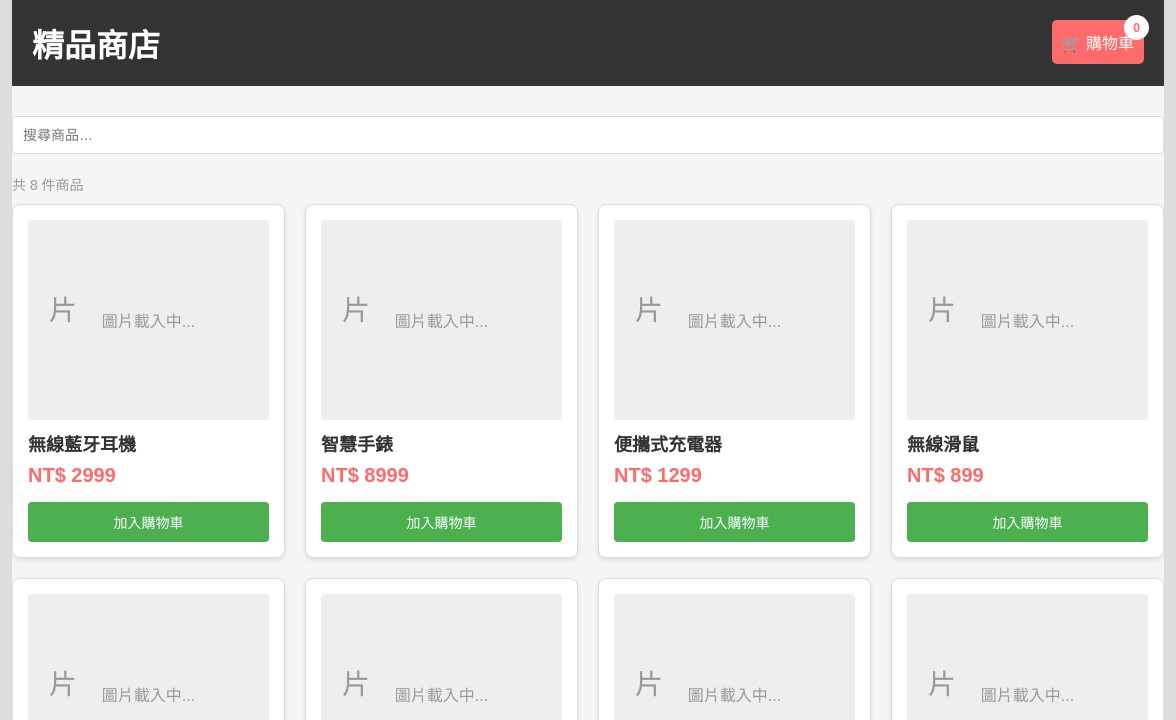
Test: Ticket 04: show total cart quantity › 2 × earphones + 1 × mouse shows 3 units in the badge and the accessible label
The image size is (1176, 720).
Click the button "加入購物車" below "NT$ 2999" at (148, 522), box [28,502,269,542]
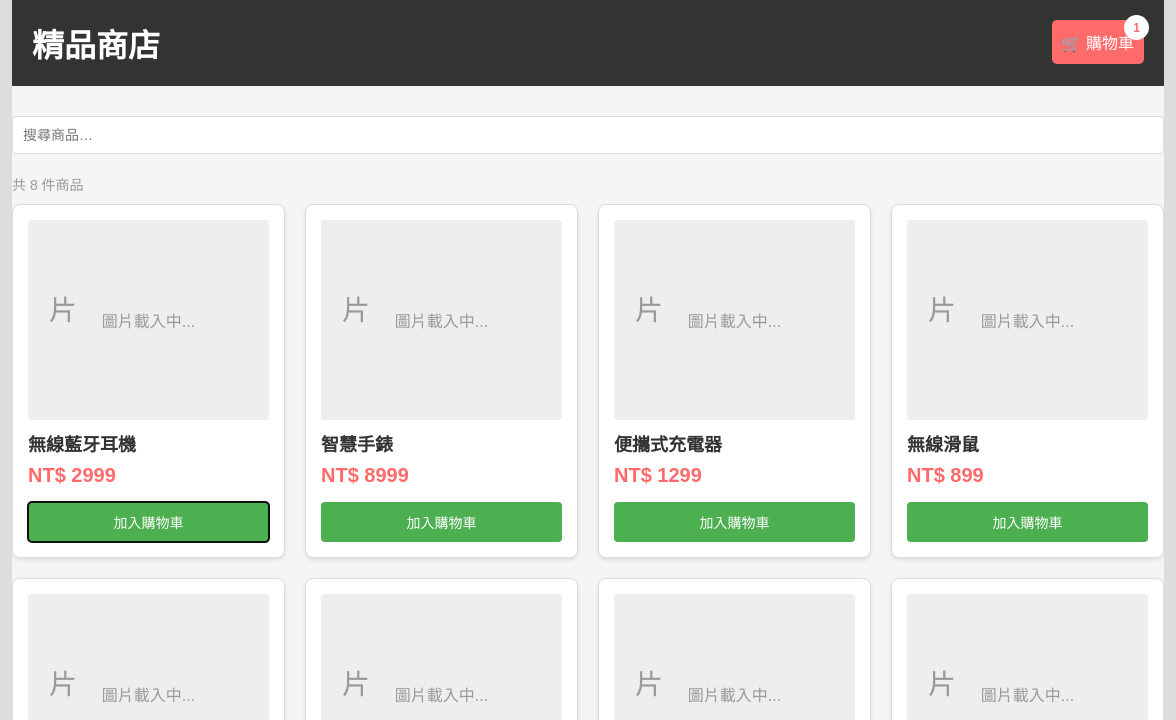
Click the button "加入購物車" below "NT$ 2999" at (148, 522), box [28,502,269,542]
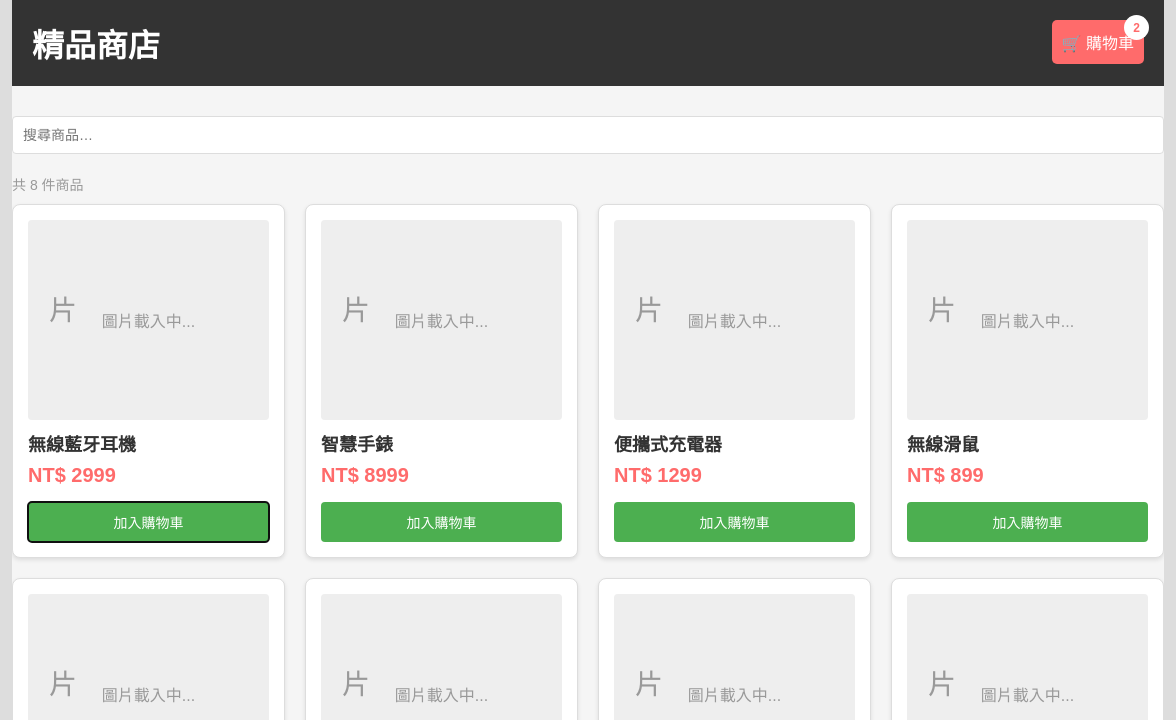
Click the button "加入購物車" below "無線滑鼠" at (1028, 522), box [907,502,1148,542]
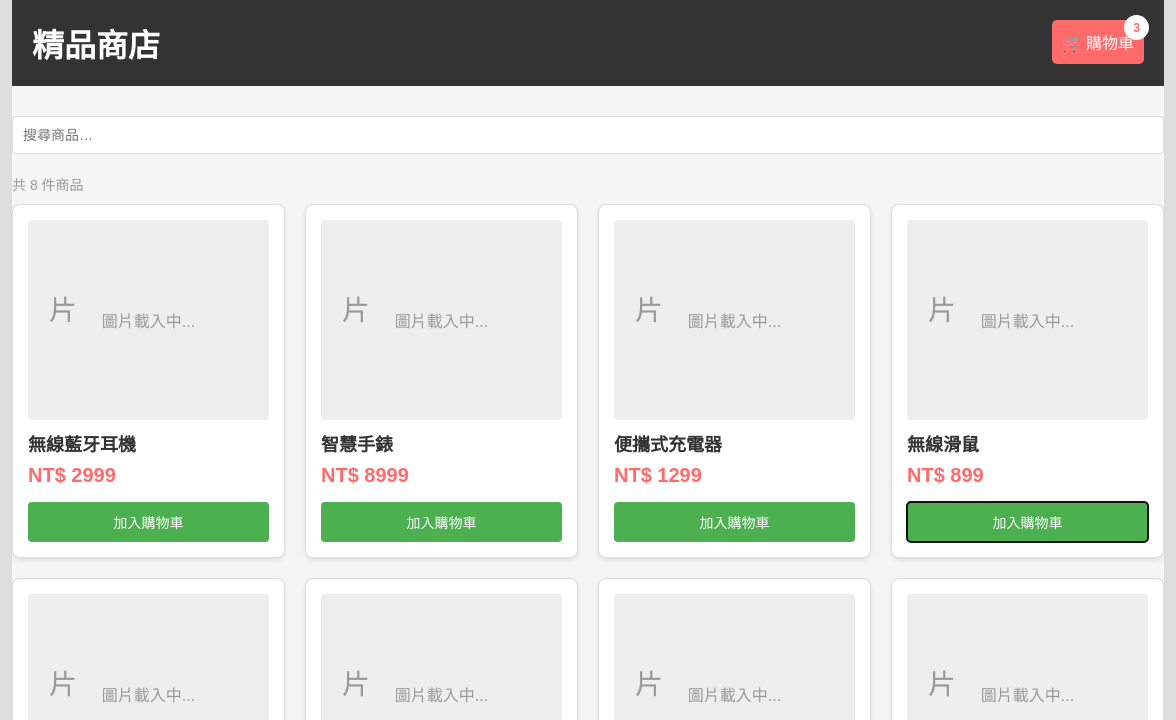
Expected: the button with aria-label "開啟購物車" shows "3", [1052,20,1144,64]
